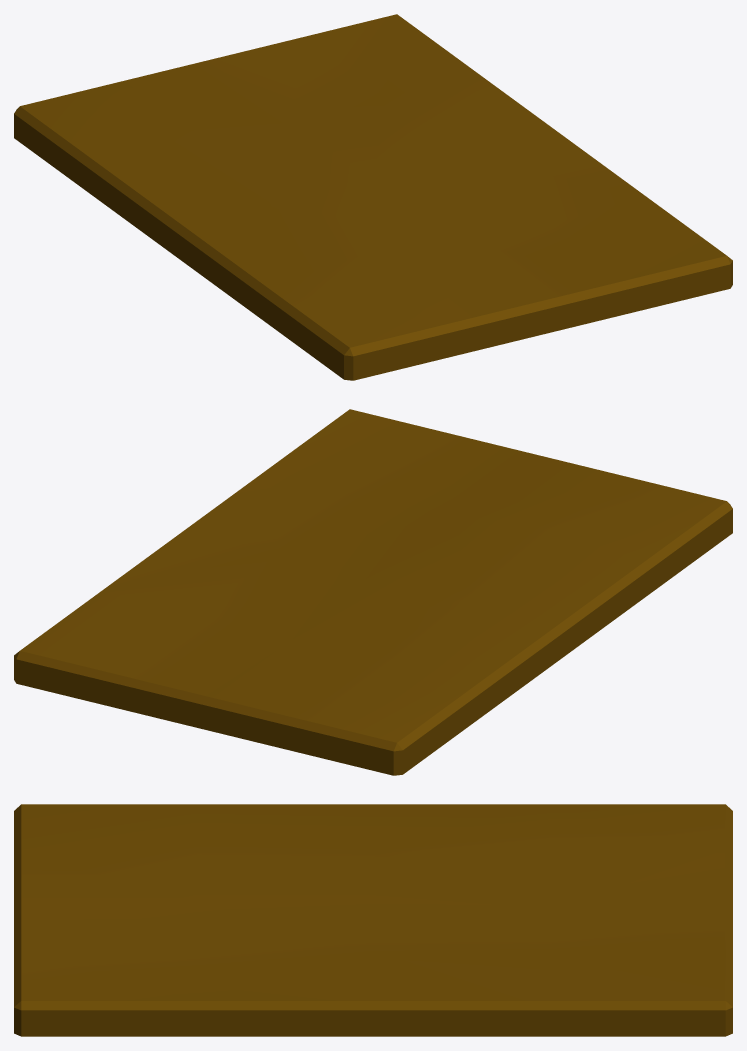
Rendered from carpet1.fbx.
3 renders of one model, top to bottom at view 1: azimuth 30°, elevation 25°; view 2: azimuth 150°, elevation 25°; view 3: azimuth 270°, elevation 25°, orthographic. The views are drawn at different scales.
Visible parts, largest first — view 1: carpet1; view 2: carpet1; view 3: carpet1.
Boxes of the visible parts, left/top/right/bottom form: carpet1: left=14, top=14, right=732, bottom=380; carpet1: left=14, top=409, right=732, bottom=775; carpet1: left=14, top=804, right=732, bottom=1036.
Size of the model in its own units: 40 by 3.98 by 60.
